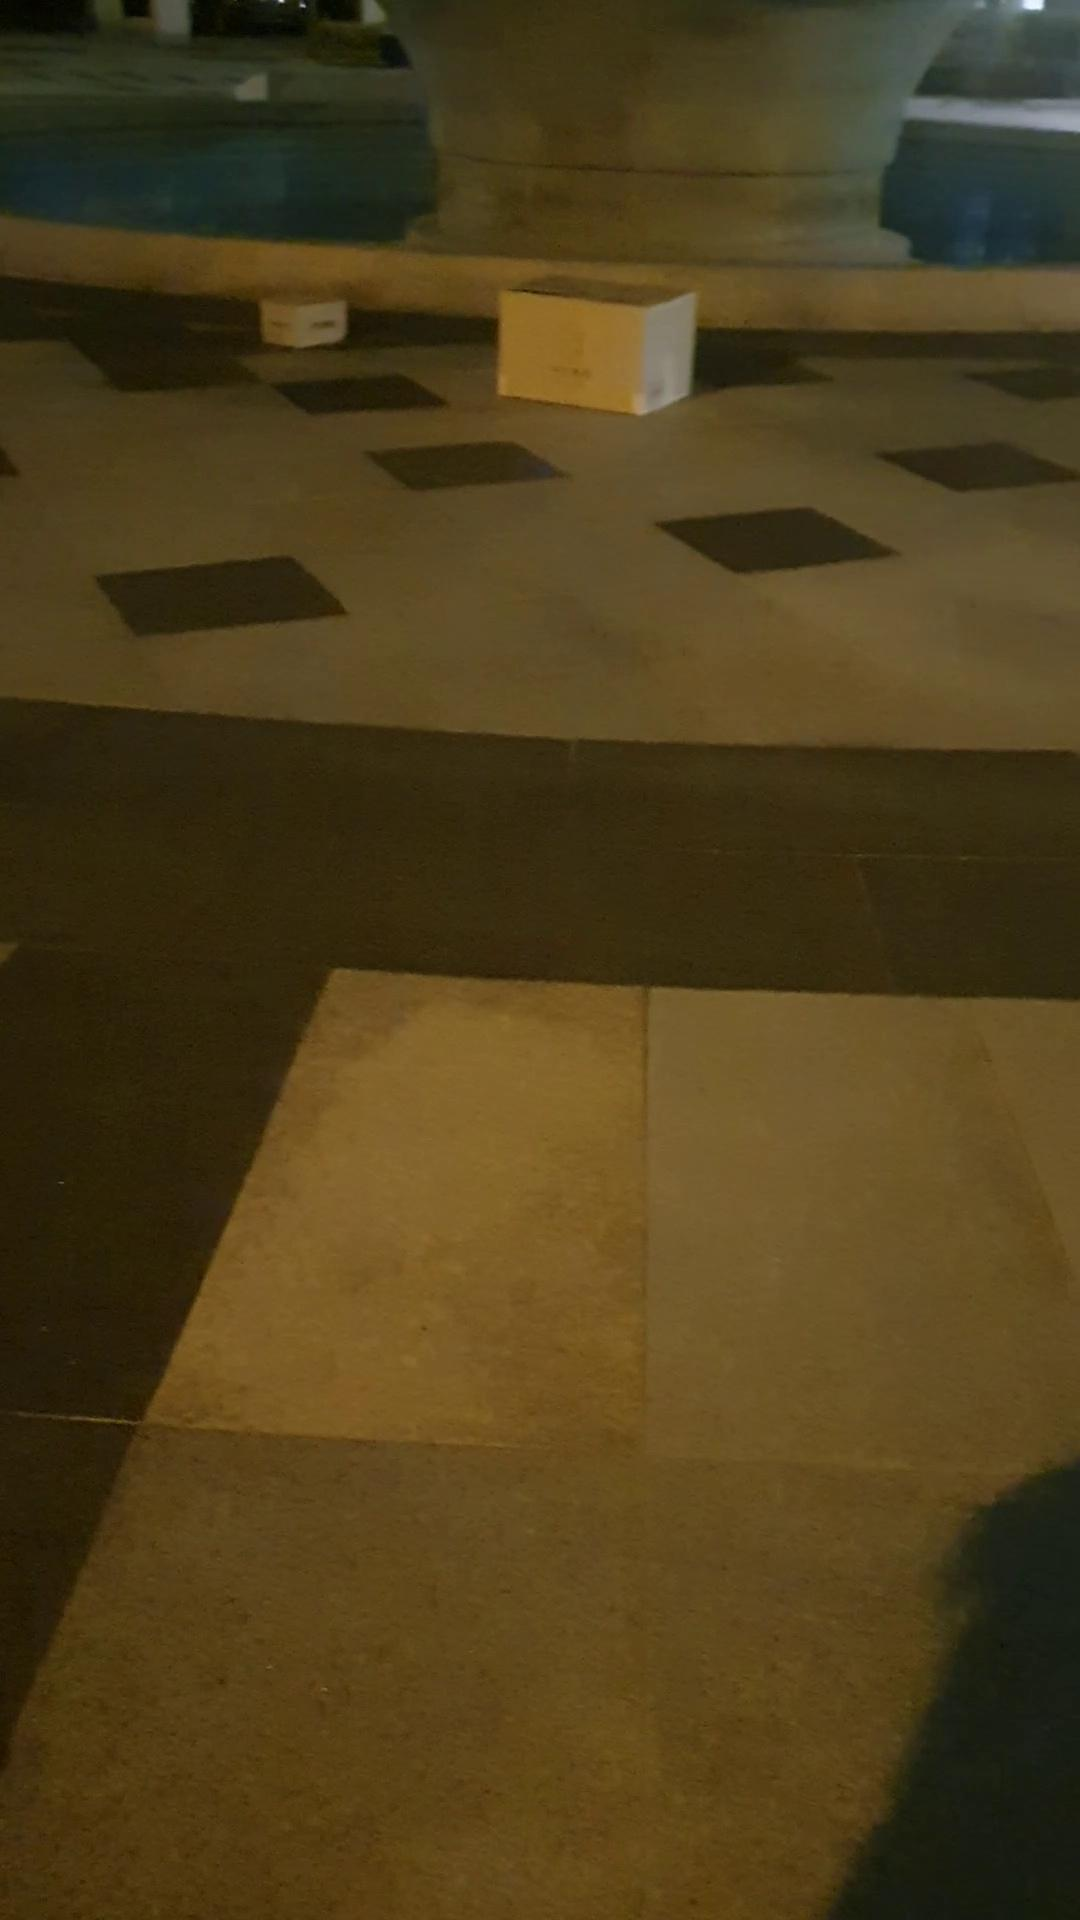Box: (483, 270, 704, 417), (253, 270, 363, 360)
